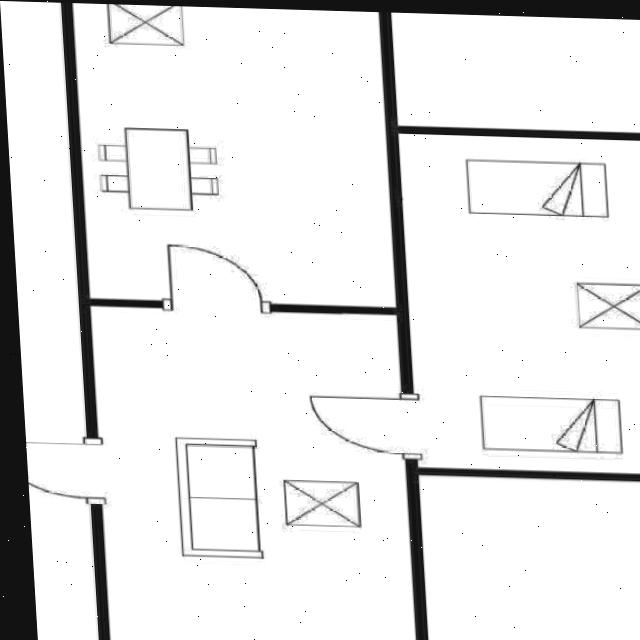room: (90, 287, 417, 640), (65, 2, 404, 307), (399, 133, 640, 473)
